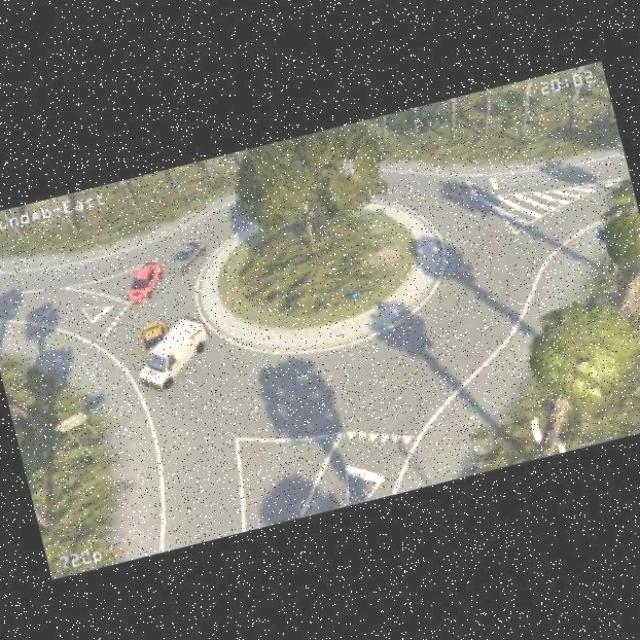accident: (125, 314, 176, 383)
